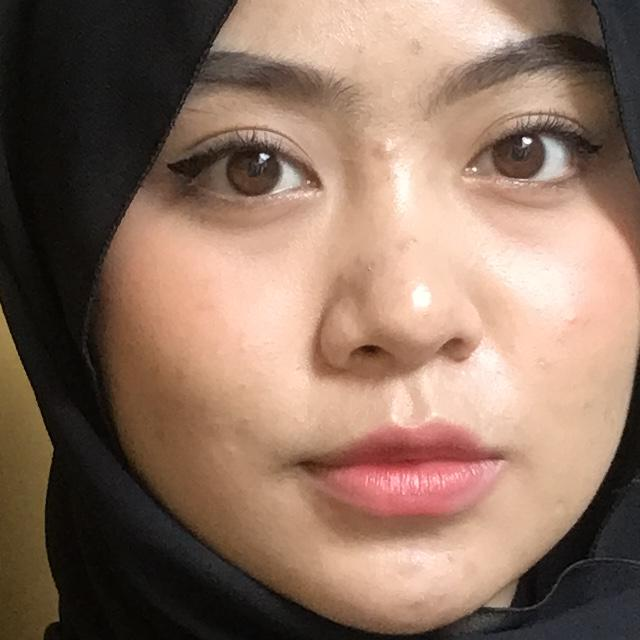kapan: (0, 196, 350, 640)
